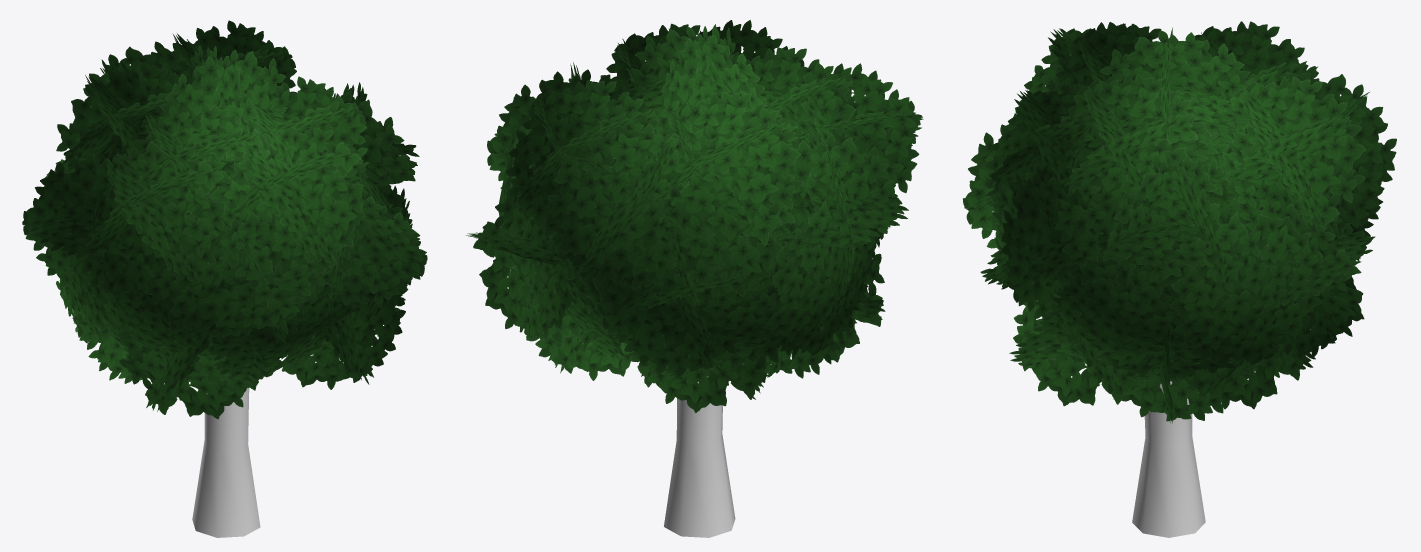
File: Beech.fbx
3 renders of one model, left to right at view 1: azimuth 30°, elevation 25°; view 2: azimuth 150°, elevation 25°; view 3: azimuth 270°, elevation 25°, orthographic. The views are drawn at different scales.
Visible parts, largest first — view 1: Beech; view 2: Beech; view 3: Beech.
Part boxes in pixels (box(x1,y1,x2,y2)): Beech: box(22, 20, 427, 537); Beech: box(466, 20, 923, 537); Beech: box(963, 21, 1396, 537).
Size of the model in its own units: 7.17 by 8.45 by 6.86.
